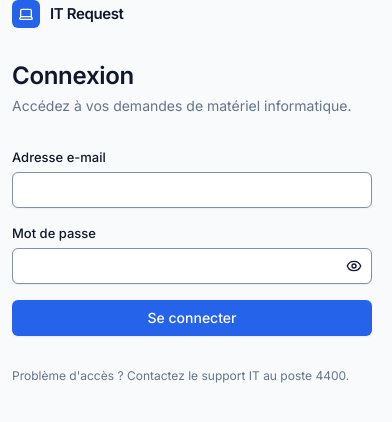
PageConnexion › refuse une adresse e-mail invalide
In the field labelled "Adresse e-mail": (192, 190) [12,172,372,208], type "pas-un-email"
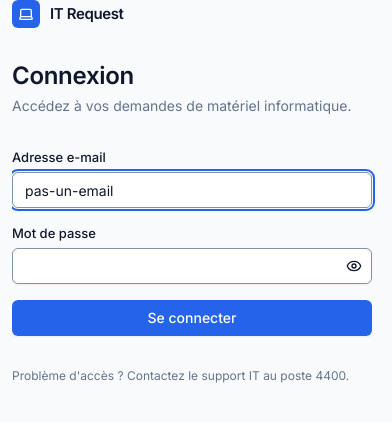
In the password field labelled "Mot de passe": (192, 266) [12,248,372,284], type "secret"
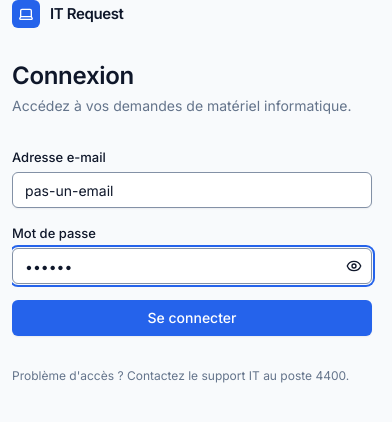
Click the button "Se connecter": (192, 318) [12,300,372,336]
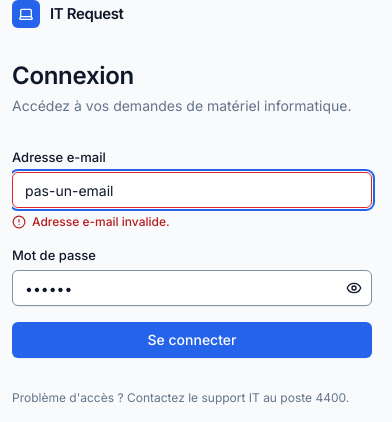
Expected: the text "Adresse e-mail invalide." is shown, [12,214,170,229]
